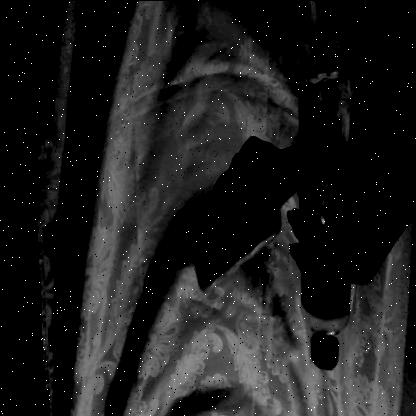Plastic Bottle: (278, 26, 362, 393)
